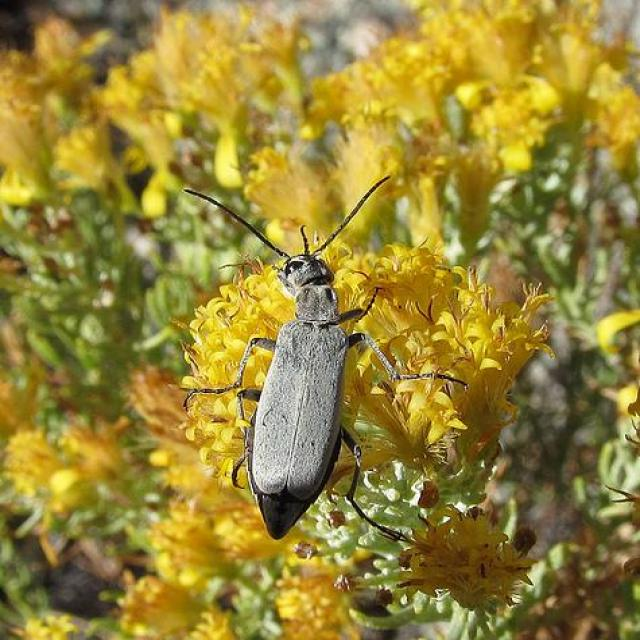BlisterBeetle-Adult-: (152, 165, 458, 549)
